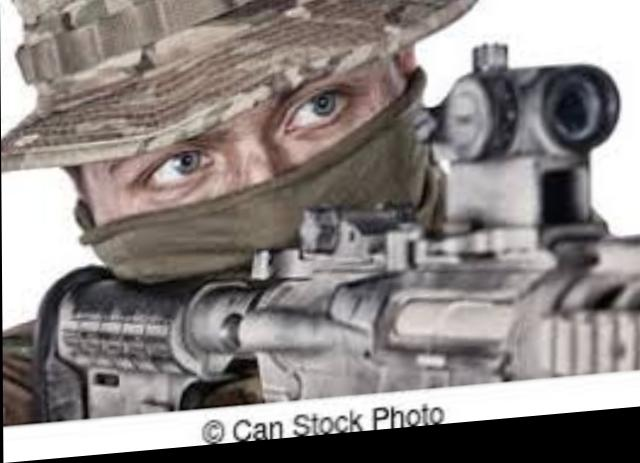tank: (25, 0, 469, 308)
